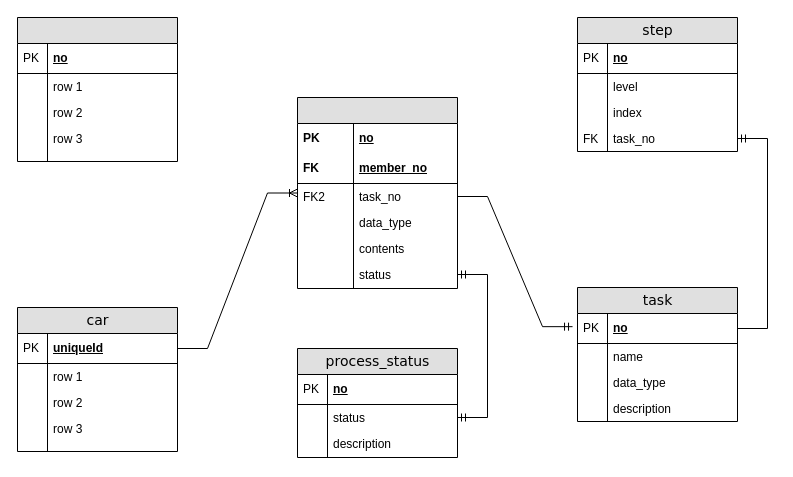
This 793x477 diagram has some shape labels left out. Here are the shapes that lost their labels. From the top down, the box of each, then its label:
(16, 16, 178, 162): member
(296, 96, 458, 288): owner_process
